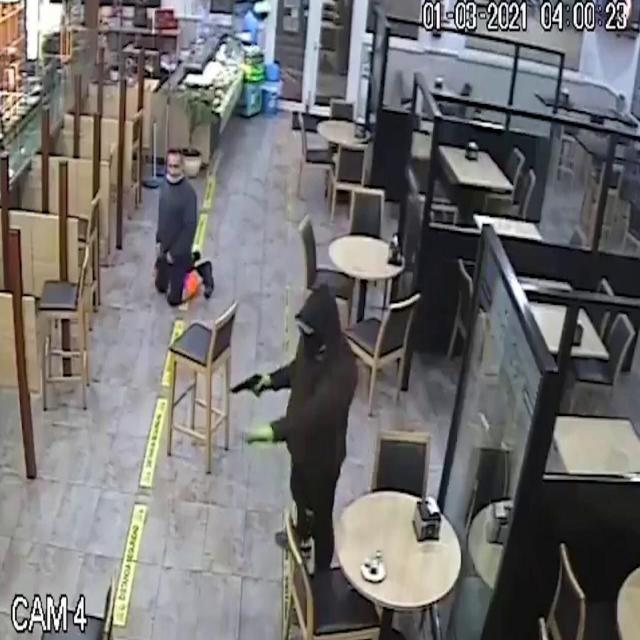gun: (221, 363, 275, 413)
